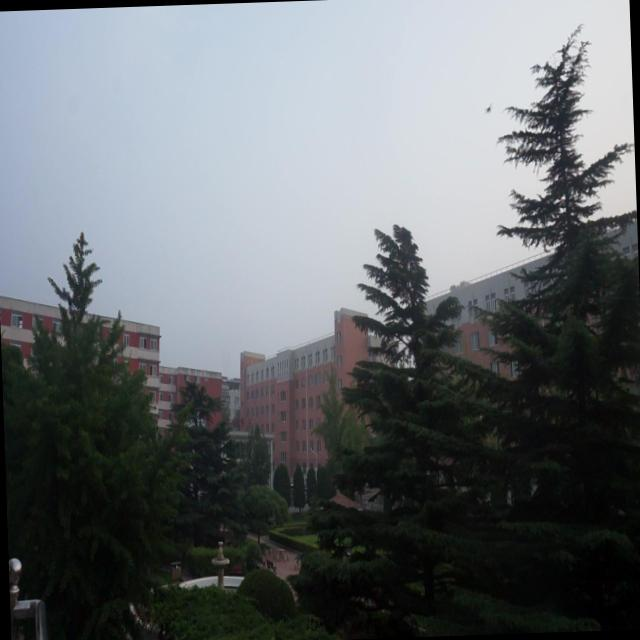drone: (480, 96, 494, 122)
